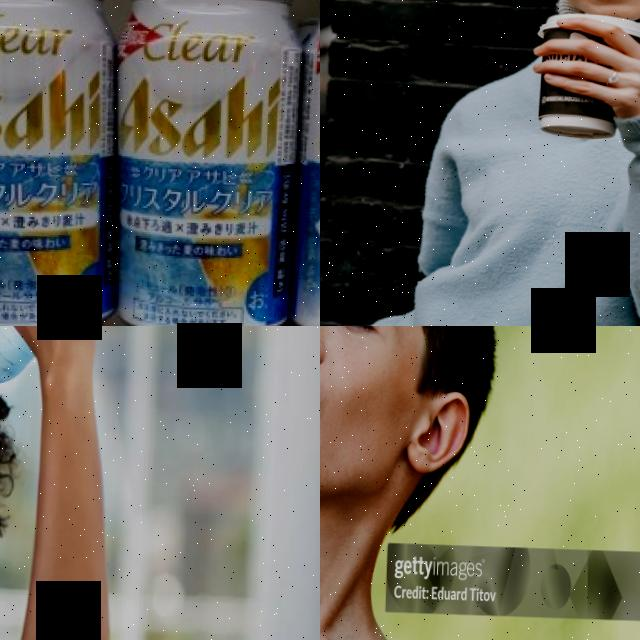bottle: (0, 326, 145, 394)
can: (108, 0, 304, 326), (0, 0, 128, 326)
cup: (529, 10, 640, 141)
